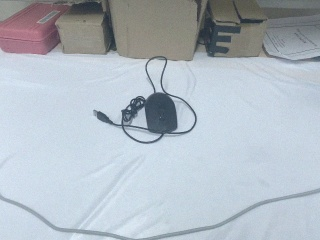box: (107, 1, 205, 63), (1, 1, 72, 59), (200, 1, 269, 60), (54, 1, 117, 57)
mouse: (144, 92, 179, 134)
